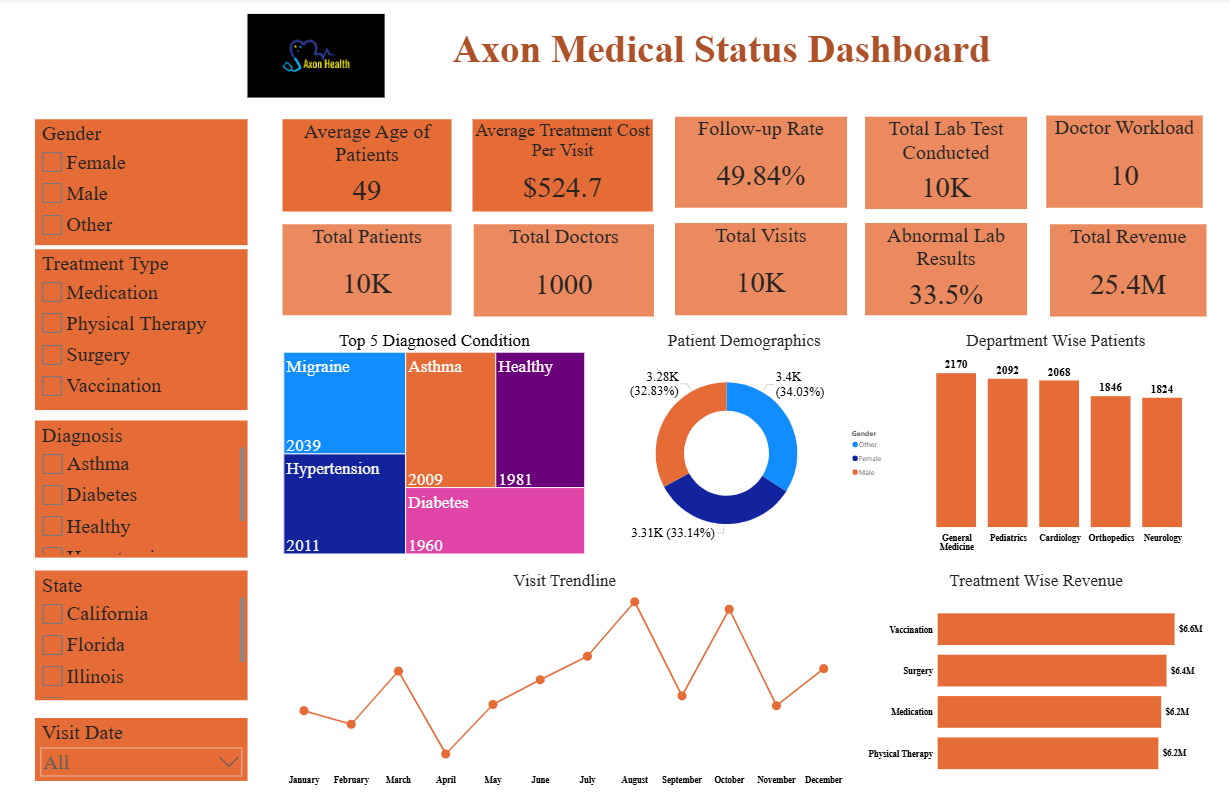

The dashboard page shown, as its layout file describes it:
{"tool":"powerbi","page":{"name":"Page 1","canvas":[2300,1500],"ordinal":0},"visuals":[{"type":"card","title":"Total Patients","fields":{"Values":["CountNonNull(👤 Patient.Patient ID)"]},"box":[523.7,420,313.7,168.5],"z":0},{"type":"card","title":"Total Doctors","fields":{"Values":["CountNonNull(👨⚕️ Doctor.Doctor ID)"]},"box":[878.8,420,334.4,171.1],"z":1000},{"type":"card","title":"Average Age of Patients","fields":{"Values":["Avg(👤 Patient.Age)"]},"box":[523.7,225.5,313.7,171.1],"z":2000},{"type":"card","title":"Total Visits","fields":{"Values":["CountNonNull(🏥 Visit.Visit ID)"]},"box":[1252.2,417.4,318.9,171.1],"z":3000},{"type":"card","title":"Follow-up Rate","fields":{"Values":["🏥 Visit.Follow-Up Rate (%)"]},"box":[1252.2,220.4,318.9,168.5],"z":4000},{"type":"card","title":"Average Treatment Cost Per Visit","fields":{"Values":["Avg(💊 Treatment.Direct Treatment Cost ($))"]},"box":[876.3,225.5,334.4,171.1],"z":5000},{"type":"card","title":"Total Lab Test Conducted","fields":{"Values":["CountNonNull(🧪 Lab Test.Lab Result ID)"]},"box":[1604.7,220.4,300.7,171.1],"z":6000},{"type":"card","title":"Abnormal Lab Results","fields":{"Values":["🧪 Lab Test.Percentage of Abnormal Lab Results (%)"]},"box":[1604.7,417.4,300.7,171.1],"z":7000},{"type":"card","title":"Doctor Workload","fields":{"Values":["👨⚕️ Doctor.Doctor Workload"]},"box":[1941.8,217.8,290.4,171.1],"z":8000},{"type":"card","title":"Total Revenue","fields":{"Values":["Sum(💳 Billing.Amount Billed ($))"]},"box":[1946.9,420,290.4,171.1],"z":9000},{"type":"textbox","box":[715.5,49.3,1244.4,119.3],"z":10000},{"type":"treemap","title":"Top 5 Diagnosed Condition","fields":{"Group":["🏥 Visit.Diagnosis1"],"Values":["CountNonNull(🏥 Visit.Diagnosis)"]},"box":[522.8,615.8,568,419.7],"z":11000},{"type":"lineChart","title":"Visit Trendline ","fields":{"Category":["🏥 Visit.Visit Date.Variation.Date Hierarchy.Year","🏥 Visit.Visit Date.Variation.Date Hierarchy.Quarter","🏥 Visit.Visit Date.Variation.Date Hierarchy.Month","🏥 Visit.Visit Date.Variation.Date Hierarchy.Day"],"Y":["CountNonNull(🏥 Visit.Visit ID)"]},"box":[523.7,1062.9,1047.4,407],"z":12000},{"type":"donutChart","title":"Patient Demographics","fields":{"Category":["👤 Patient.Gender"],"Y":["CountNonNull(👤 Patient.Patient ID)"]},"box":[1110.9,615.8,540.4,419.7],"z":13000},{"type":"columnChart","title":"Department Wise Patients","fields":{"Category":["🏢 Department.Department Name"],"Y":["CountNonNull(👤 Patient.Patient ID)"]},"box":[1679.9,617,560,420],"z":14000},{"type":"clusteredBarChart","title":"Treatment Wise Revenue","fields":{"Category":["💊 Treatment.Treatment Type"],"Y":["Sum(💊 Treatment.Total Episode Cost ($))"]},"box":[1604.7,1062.9,635.2,407],"z":15000},{"type":"slicer","fields":{"Values":["👤 Patient.Gender"]},"box":[64.8,225.5,394.1,233.3],"z":16000},{"type":"slicer","fields":{"Values":["💊 Treatment.Treatment Type"]},"box":[64.8,466.6,394.1,298.1],"z":17000},{"type":"slicer","fields":{"Values":["👤 Patient.State"]},"box":[64.8,1062.9,394.1,241.1],"z":18000},{"type":"slicer","fields":{"Values":["🏥 Visit.Diagnosis"]},"box":[64.8,782.9,394.1,254.1],"z":19000},{"type":"slicer","fields":{"Values":["🏥 Visit.Visit Date"]},"box":[64.8,1335.1,394.1,116.7],"z":19001},{"type":"image","box":[458.9,25.9,254.1,163.3],"z":19002}]}

Visuals, with their boxes in screenshot pixels (x1, y1, x2, y2), scaled from the page's 2300x1500 canvas onto the 1230x793 screenshot:
"Total Patients" card: <bbox>280, 222, 448, 311</bbox>
"Total Doctors" card: <bbox>470, 222, 649, 312</bbox>
"Average Age of Patients" card: <bbox>280, 119, 448, 210</bbox>
"Total Visits" card: <bbox>670, 221, 840, 311</bbox>
"Follow-up Rate" card: <bbox>670, 117, 840, 206</bbox>
"Average Treatment Cost Per Visit" card: <bbox>469, 119, 647, 210</bbox>
"Total Lab Test Conducted" card: <bbox>858, 117, 1019, 207</bbox>
"Abnormal Lab Results" card: <bbox>858, 221, 1019, 311</bbox>
"Doctor Workload" card: <bbox>1038, 115, 1194, 206</bbox>
"Total Revenue" card: <bbox>1041, 222, 1196, 312</bbox>
textbox: <bbox>383, 26, 1048, 89</bbox>
"Top 5 Diagnosed Condition" treemap: <bbox>280, 326, 583, 547</bbox>
"Visit Trendline " lineChart: <bbox>280, 562, 840, 777</bbox>
"Patient Demographics" donutChart: <bbox>594, 326, 883, 547</bbox>
"Department Wise Patients" columnChart: <bbox>898, 326, 1198, 548</bbox>
"Treatment Wise Revenue" clusteredBarChart: <bbox>858, 562, 1198, 777</bbox>
slicer - 👤 Patient.Gender: <bbox>35, 119, 245, 243</bbox>
slicer - 💊 Treatment.Treatment Type: <bbox>35, 247, 245, 404</bbox>
slicer - 👤 Patient.State: <bbox>35, 562, 245, 689</bbox>
slicer - 🏥 Visit.Diagnosis: <bbox>35, 414, 245, 548</bbox>
slicer - 🏥 Visit.Visit Date: <bbox>35, 706, 245, 768</bbox>
image: <bbox>245, 14, 381, 100</bbox>
